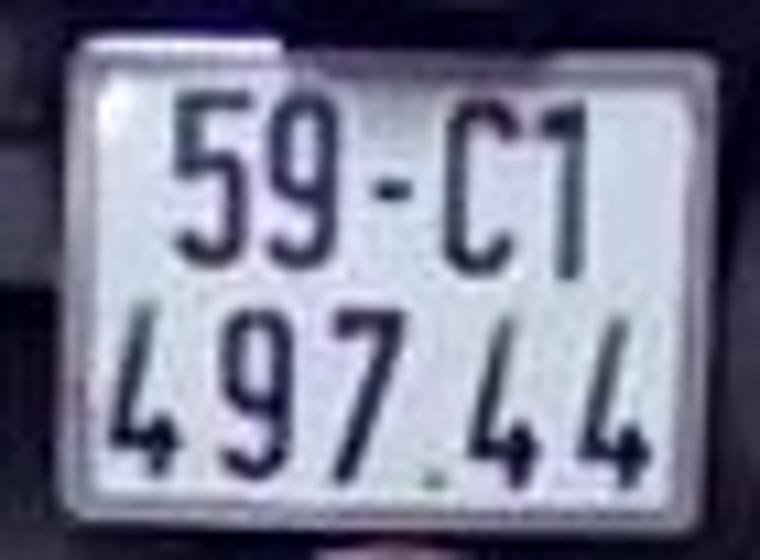-: (371, 176, 417, 203)
.: (416, 463, 449, 492)
1: (538, 94, 596, 287)
4: (105, 292, 186, 478), (571, 310, 651, 486), (471, 308, 539, 489)
5: (172, 80, 250, 270)
7: (330, 297, 405, 488)
9: (215, 304, 295, 480), (263, 90, 339, 270)
C: (441, 91, 523, 279)
